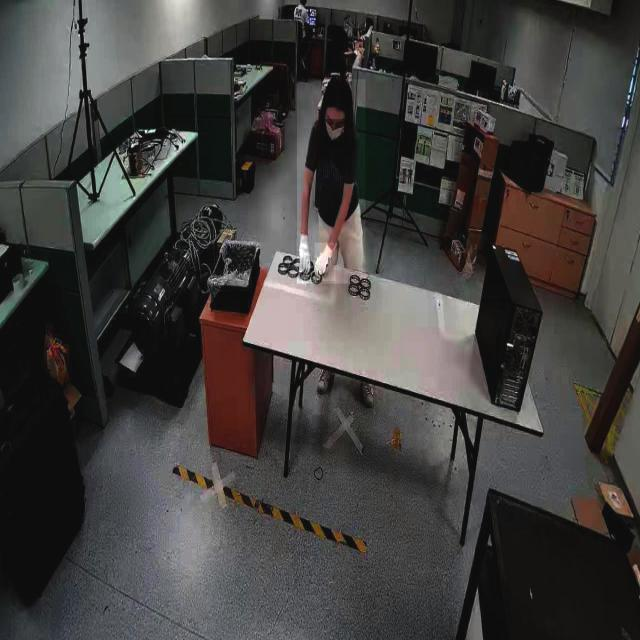face_mask: (322, 119, 346, 145)
hand_glove: (314, 242, 336, 282), (296, 238, 312, 276)
head_nohelmet: (321, 74, 354, 106)
person: (296, 79, 366, 285)
